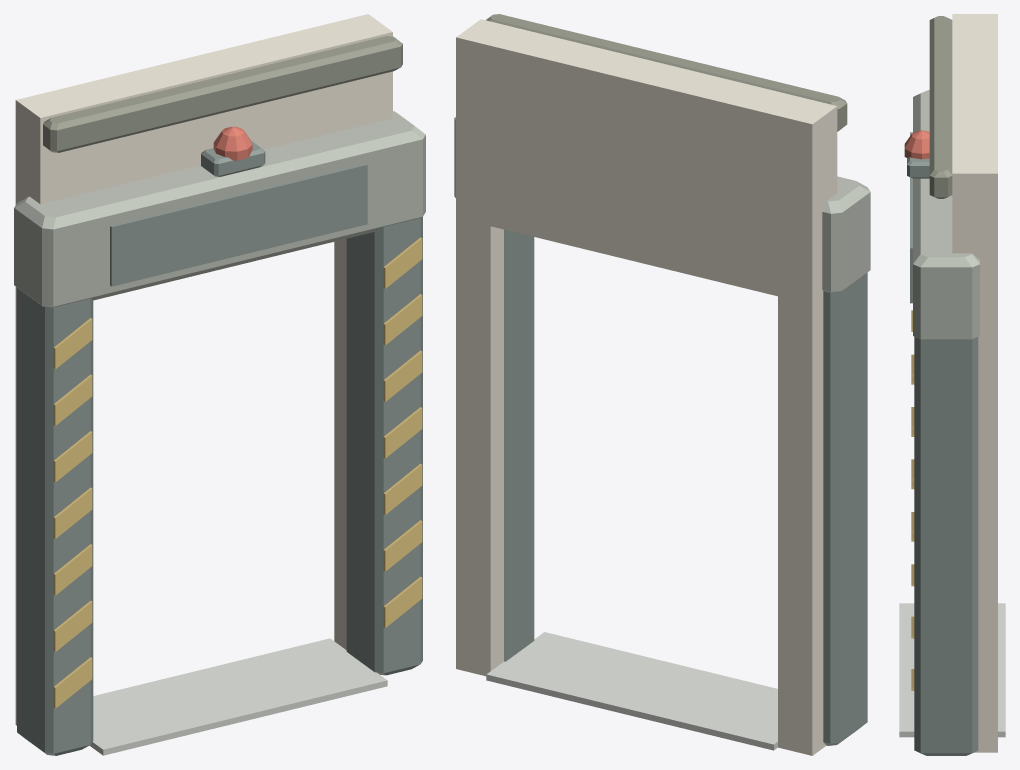
Rendered from lab_door_frame.glb.
3 views of the same model, side by side, from view 1: azimuth 30°, elevation 25°; view 2: azimuth 150°, elevation 25°; view 3: azimuth 270°, elevation 25° (orthographic). The views are drawn at different scales.
Parts seen in each view (by area): view 1: lab_door_frame, StatusLight; view 2: lab_door_frame; view 3: lab_door_frame, StatusLight.
Part boxes in pixels (x1,y1,x2,y2): lab_door_frame: [14, 14, 425, 755]; StatusLight: [201, 126, 265, 176]; lab_door_frame: [454, 14, 870, 755]; lab_door_frame: [899, 14, 1005, 755]; StatusLight: [904, 130, 929, 178].
Size of the model in its own units: 2.7 by 4.2 by 0.7.
